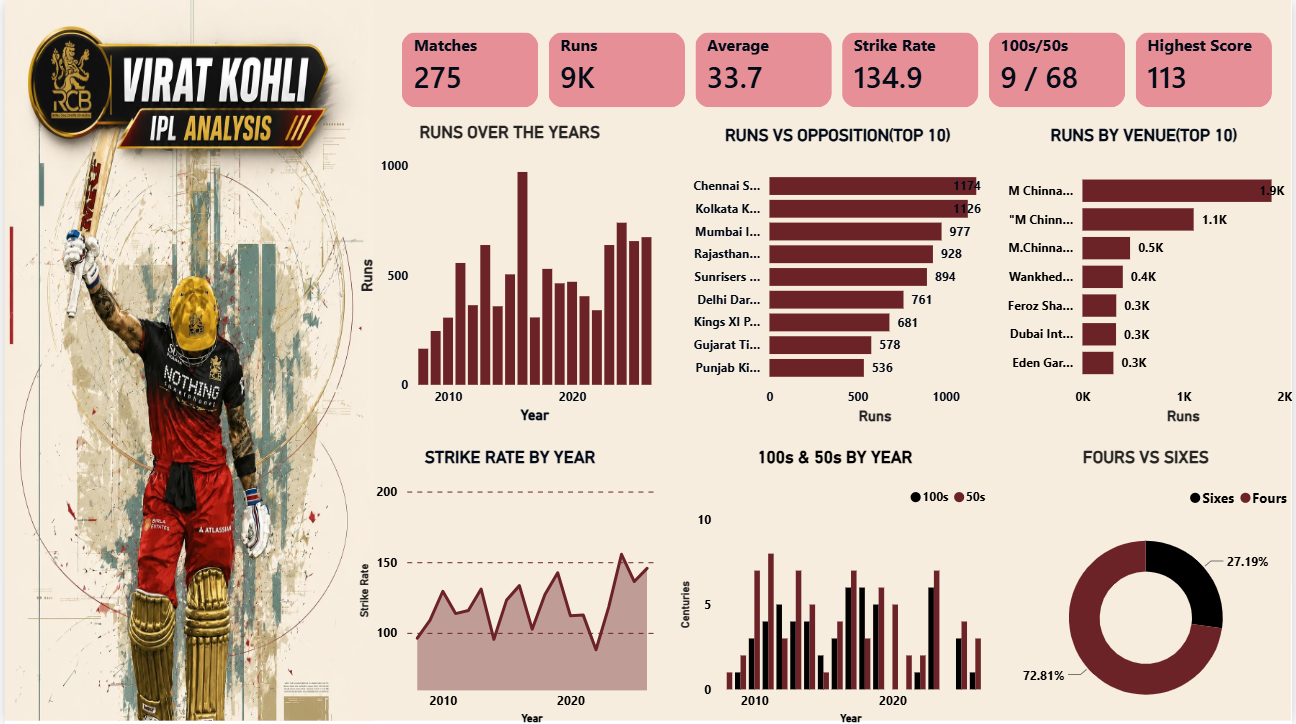

This screenshot's page, from the dashboard's own definition file:
{"tool":"powerbi","page":{"name":"IPL","canvas":[1280,720],"ordinal":4},"visuals":[{"type":"cardVisual","fields":{"Data":["Virat_Kohli_Master.ODI Matches","Virat_Kohli_Master.ODI Runs","Virat_Kohli_Master.ODI Average","Virat_Kohli_Master.ODI Strike Rate","Virat_Kohli_Master.ODI 100s 50s","Virat_Kohli_Master.ODI Highest Score"]},"box":[377,14.3,903.5,109],"z":0},{"type":"clusteredColumnChart","title":"RUNS OVER THE YEARS","fields":{"Category":["Virat_Kohli_Master.Date.Variation.Date Hierarchy.Year"],"Y":["Sum(Virat_Kohli_Master.Runs)"]},"box":[351.5,120.9,300,300],"z":1000},{"type":"clusteredBarChart","title":"RUNS VS OPPOSITION(TOP 10)","fields":{"Category":["Virat_Kohli_Master.Opponent"],"Y":["Sum(Virat_Kohli_Master.Runs)"]},"box":[671.2,124.1,313.4,297.4],"z":2000},{"type":"clusteredBarChart","title":"RUNS BY VENUE(TOP 10)","fields":{"Category":["Virat_Kohli_Master.Venue"],"Y":["Sum(Virat_Kohli_Master.Runs)"]},"box":[984.6,124.1,295.9,297.4],"z":3000},{"type":"lineChart","title":"STRIKE RATE BY YEAR","fields":{"Category":["Virat_Kohli_Master.Date.Variation.Date Hierarchy.Year"],"Y":["Avg(Virat_Kohli_Master.Strike Rate)"]},"box":[351.5,445.4,300.6,275.2],"z":4000},{"type":"clusteredColumnChart","title":"100s & 50s BY YEAR","fields":{"Category":["Virat_Kohli_Master.Date.Variation.Date Hierarchy.Year"],"Y":["Virat_Kohli_Master.ODI 100s","Virat_Kohli_Master.ODI 50s"]},"box":[671.2,445.4,313.4,275.2],"z":5000},{"type":"donutChart","title":"FOURS VS SIXES","fields":{"Y":["Sum(Virat_Kohli_Master.Sixes)","Sum(Virat_Kohli_Master.Fours)"]},"box":[989.4,445.4,291.1,275.2],"z":6000}]}

Visuals, with their boxes in screenshot pixels (x1, y1, x2, y2), scaled from the page's 1280x720 canvas onto the 1296x724 screenshot:
cardVisual - Virat_Kohli_Master.ODI Matches x Virat_Kohli_Master.ODI Runs: select_region(382, 14, 1295, 124)
"RUNS OVER THE YEARS" clusteredColumnChart: select_region(356, 122, 660, 423)
"RUNS VS OPPOSITION(TOP 10)" clusteredBarChart: select_region(680, 125, 997, 424)
"RUNS BY VENUE(TOP 10)" clusteredBarChart: select_region(997, 125, 1295, 424)
"STRIKE RATE BY YEAR" lineChart: select_region(356, 448, 660, 723)
"100s & 50s BY YEAR" clusteredColumnChart: select_region(680, 448, 997, 723)
"FOURS VS SIXES" donutChart: select_region(1002, 448, 1295, 723)
